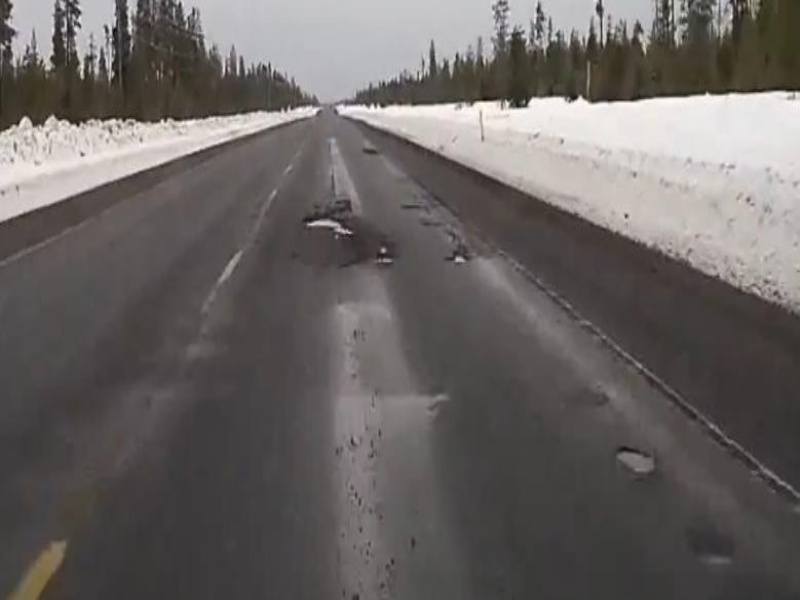pothole: (610, 444, 659, 479), (300, 214, 356, 240), (439, 249, 470, 267)
